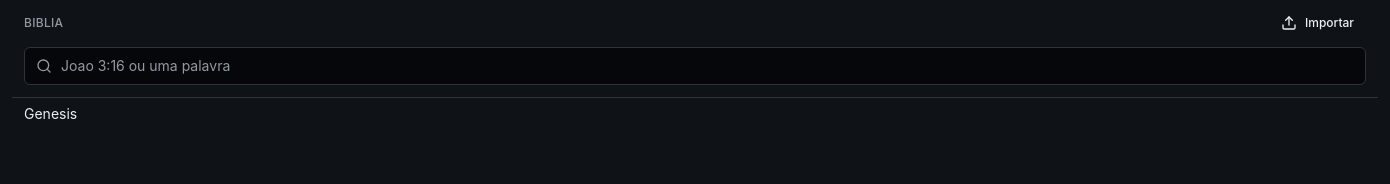
com traducao › mostra o seletor de capitulo so depois de escolher um livro
Expected: the field labelled "Capitulo" is not shown
Click the button "Genesis": [51, 114] box [12,98,1378,130]
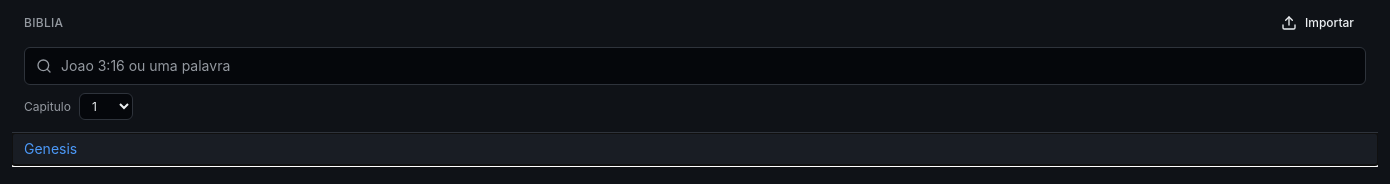
Expected: the dropdown labelled "Capitulo" is shown, [79,93,133,120]
